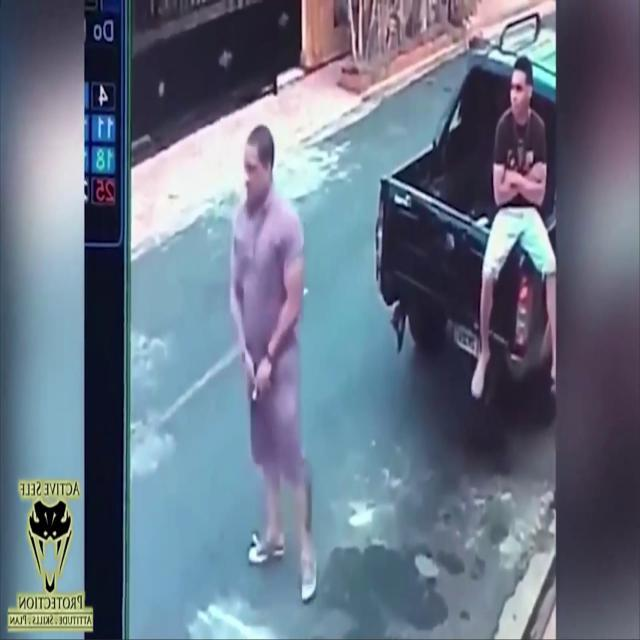Gun: (248, 362, 272, 411)
